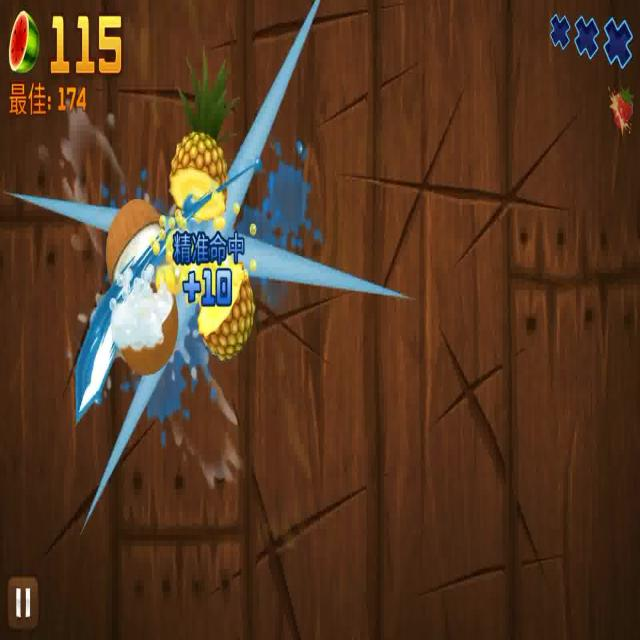fruit: (162, 58, 250, 221), (100, 183, 164, 289), (106, 295, 180, 373), (194, 262, 253, 356)
